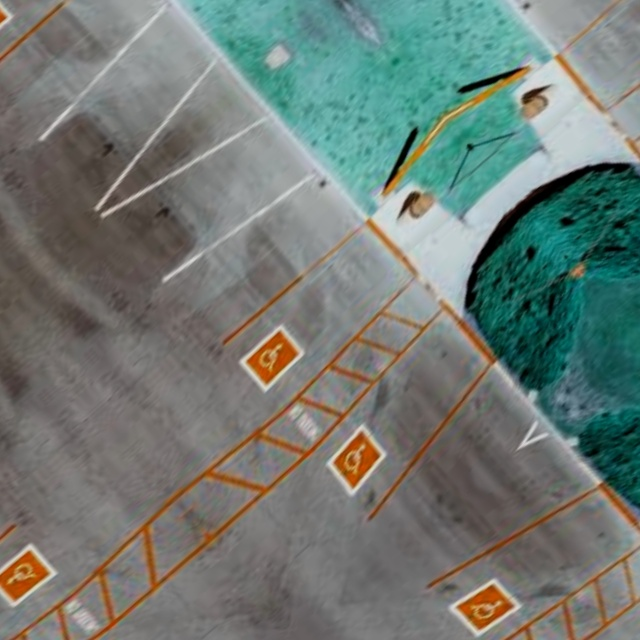ISA: (241, 330, 301, 388), (0, 546, 53, 604), (329, 432, 383, 485), (459, 581, 513, 634), (0, 0, 6, 50)
